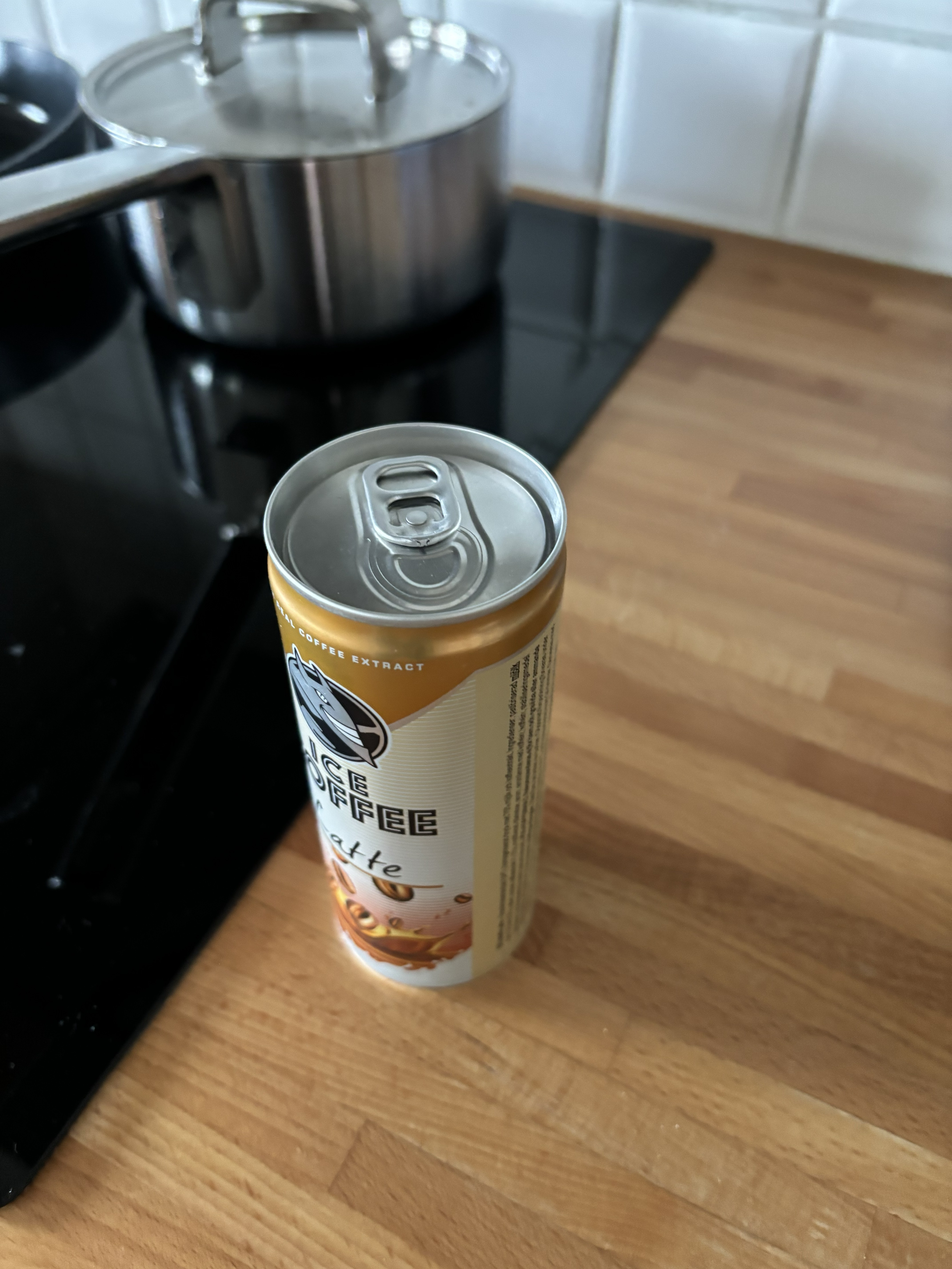Pantburk: (258, 424, 573, 988)
